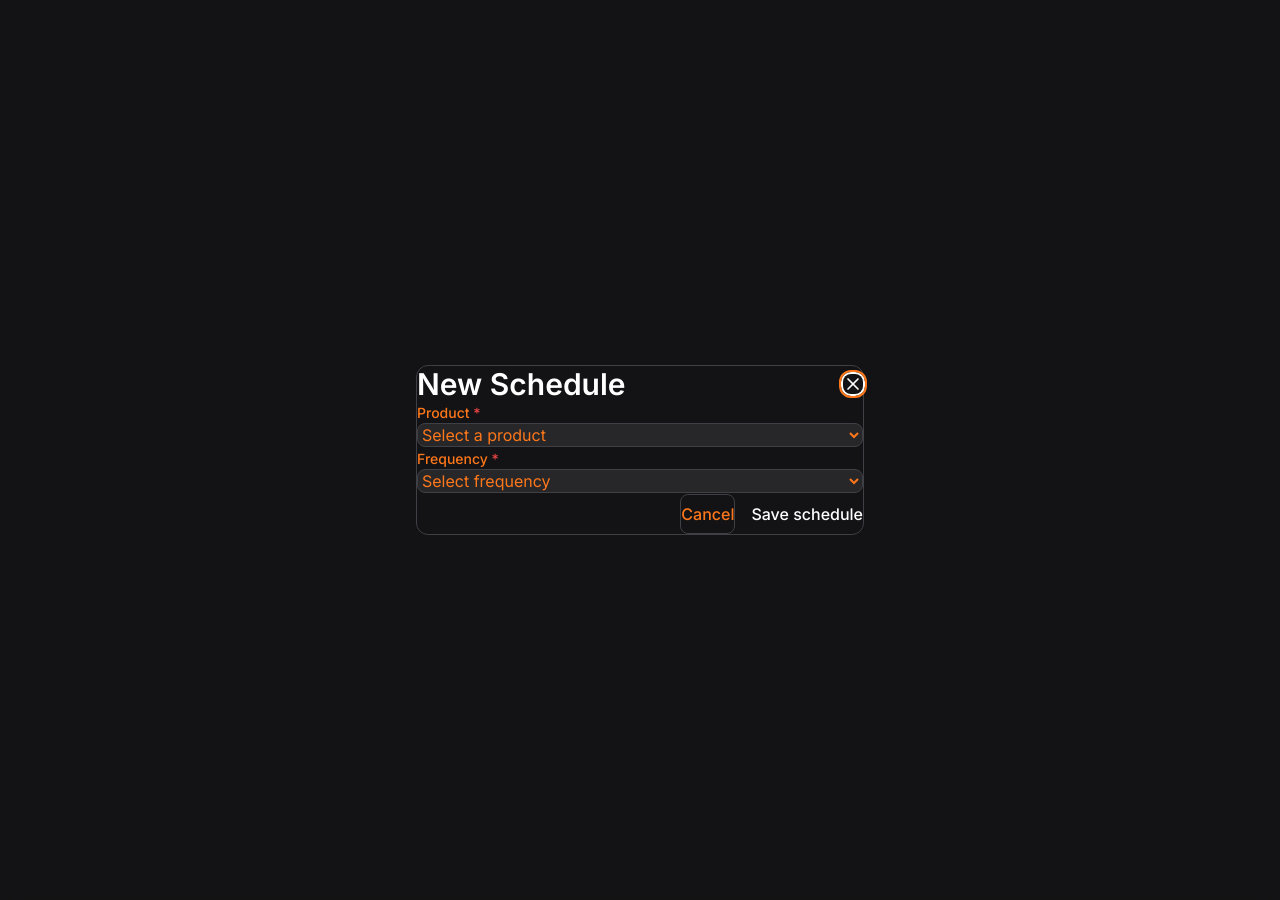
ScheduleForm › Validation › should show error when product is not selected
Click the button "Save schedule" at (807, 514), box [751,494,863,534]
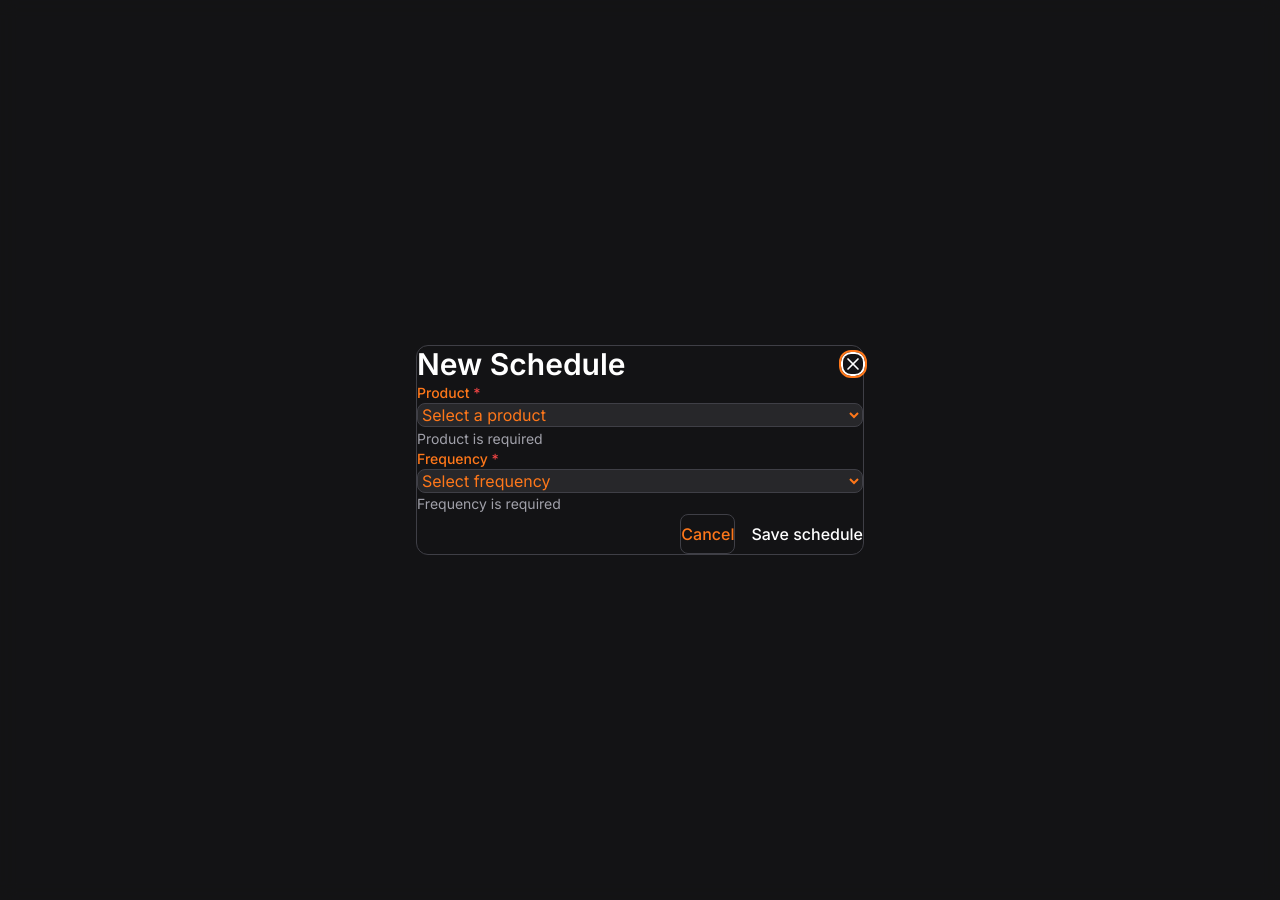
Now the text "Product is required" is shown, box [417,430,543,447]
